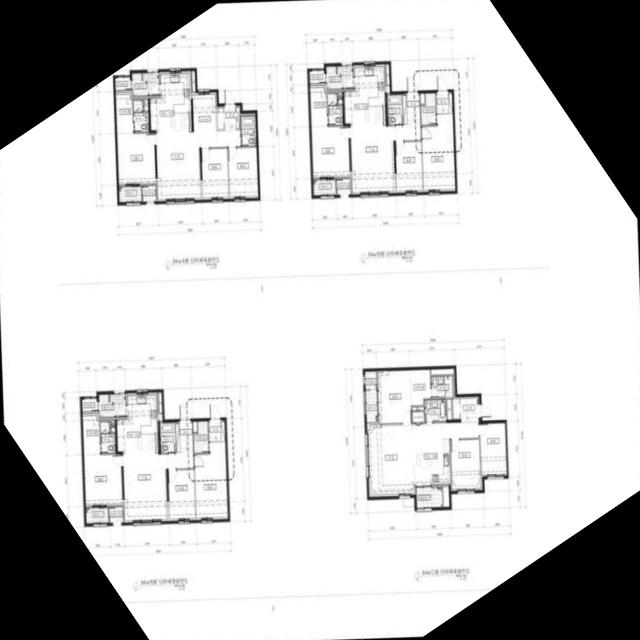background: (0, 0, 640, 640)
space_balconi: (131, 72, 159, 96), (326, 65, 353, 89), (98, 393, 125, 417), (416, 487, 442, 507), (365, 391, 377, 422), (85, 508, 108, 523), (313, 180, 335, 195)
space_bedroom: (421, 113, 455, 190), (194, 441, 227, 518), (378, 370, 411, 423), (450, 439, 480, 489), (228, 148, 258, 197), (479, 423, 506, 475), (201, 149, 228, 198), (168, 470, 195, 519), (395, 142, 422, 191)
space_dressroom: (409, 370, 430, 405), (309, 88, 327, 127), (115, 94, 133, 133), (82, 416, 99, 455)
space_front: (460, 398, 481, 422), (406, 92, 420, 124), (179, 420, 192, 452), (223, 105, 239, 130), (208, 419, 225, 442), (436, 91, 452, 114)
space_kitchen: (149, 73, 191, 133), (116, 394, 158, 454), (344, 66, 385, 126), (413, 439, 450, 484)
space_living_room: (367, 422, 478, 495), (156, 130, 240, 199), (122, 452, 193, 521), (350, 124, 420, 193)
space_multipurpose_space: (83, 454, 122, 505), (311, 126, 349, 177), (117, 133, 155, 184)
space_other: (192, 94, 216, 132), (420, 93, 435, 125), (193, 421, 208, 453), (118, 186, 141, 202), (364, 371, 376, 389), (115, 78, 131, 90), (81, 399, 97, 411), (309, 71, 325, 83), (402, 96, 407, 124), (442, 487, 449, 507), (430, 369, 453, 375), (217, 108, 223, 129), (412, 412, 424, 422), (453, 399, 459, 418), (175, 424, 179, 452), (446, 399, 451, 420), (191, 71, 195, 91), (386, 64, 389, 85), (158, 392, 161, 413), (143, 100, 148, 111), (338, 93, 342, 104), (110, 421, 114, 432), (420, 94, 424, 104), (193, 422, 197, 432), (412, 407, 423, 410)
space_outdoor_room: (142, 186, 156, 202), (108, 507, 122, 523), (336, 179, 350, 195)
space_toilet: (327, 93, 343, 126), (99, 422, 115, 454), (132, 100, 148, 132), (424, 400, 446, 421), (431, 376, 452, 398), (387, 95, 402, 125), (240, 116, 255, 146), (159, 423, 174, 453)
